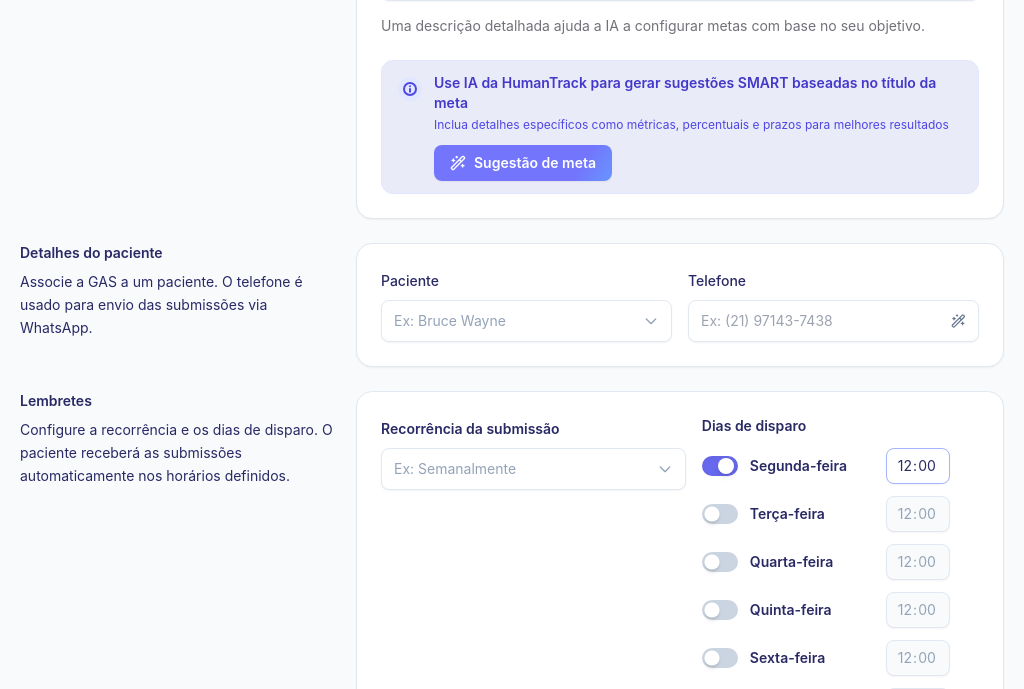
Test: App - Integration Tests › 5. Funcionalidades Adicionais › deve aplicar máscara de telefone ao digitar
The image size is (1024, 689).
(page scrolled)
// Digita apenas números
Type "21971437438" into the field with placeholder "Ex: (21) 97143-7438" at x=822, y=321, box [701,311,943,331]
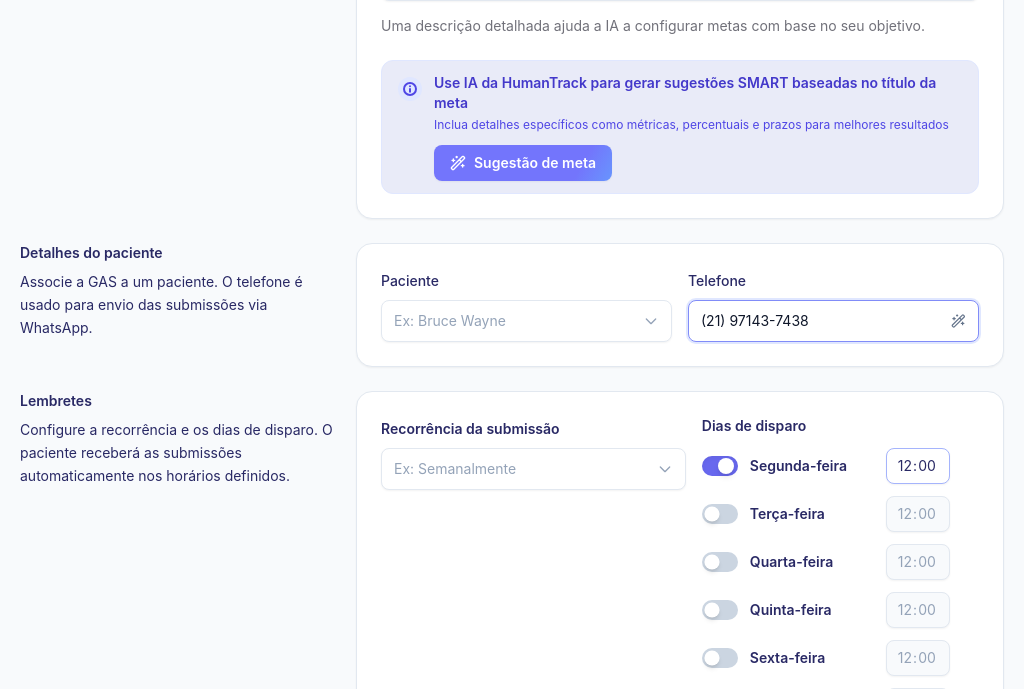
Check: the field with placeholder "Ex: (21) 97143-7438" holds "(21) 97143-7438", box [701,311,943,331]
